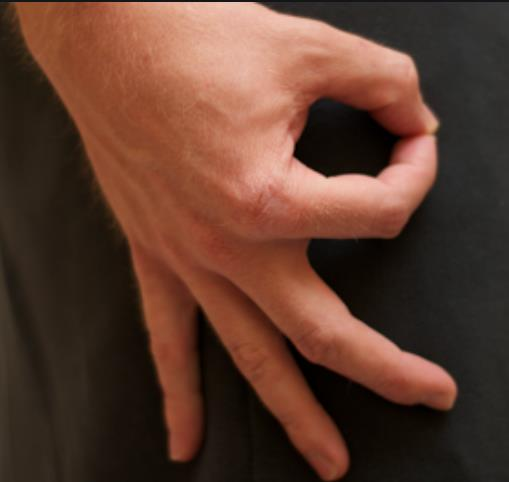left: (117, 14, 463, 480)
